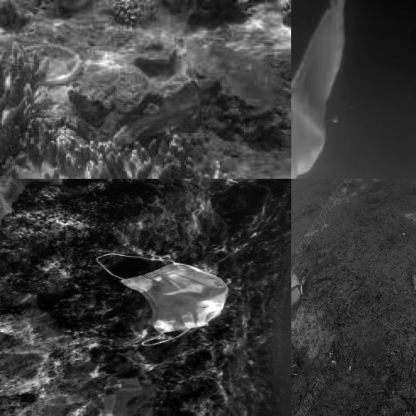Mask: (94, 250, 230, 347), (291, 0, 349, 178), (292, 262, 322, 341), (398, 187, 416, 253)
glove: (70, 81, 206, 147)
